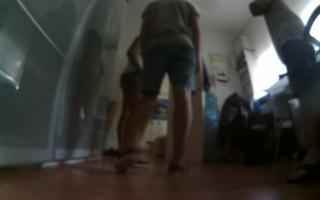person: (110, 1, 207, 178), (244, 1, 320, 185), (111, 29, 153, 171)
